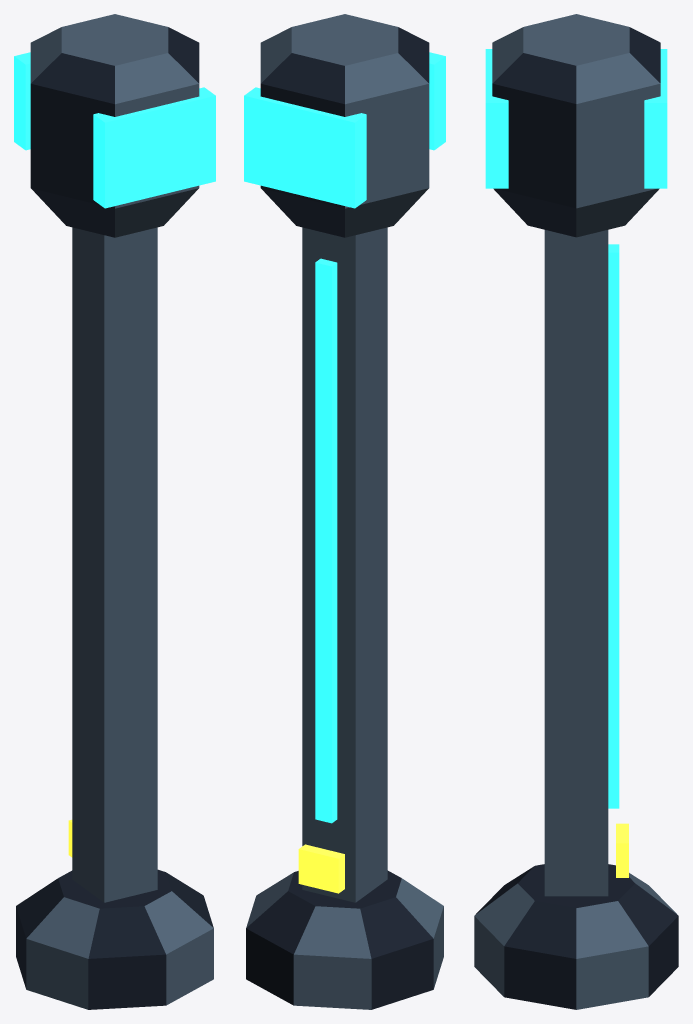
Rendered from prop-pylon-88e0980c.glb.
3 views of the same model, side by side, from view 1: azimuth 30°, elevation 25°; view 2: azimuth 150°, elevation 25°; view 3: azimuth 270°, elevation 25° (orthographic).
Parts seen in each view (by area): view 1: prop-pylon_body; view 2: prop-pylon_body; view 3: prop-pylon_body.
Boxes of the visible parts, x1,y1,x2,y2 form: prop-pylon_body: (14,14,215,1009); prop-pylon_body: (244,14,445,1009); prop-pylon_body: (474,14,678,1009).
Size of the model in its own units: 0.8 by 4 by 0.8.
